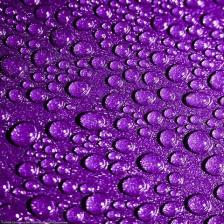purple: (1, 0, 224, 224)
